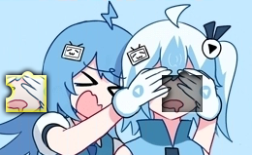gap: (163, 76, 202, 111)
